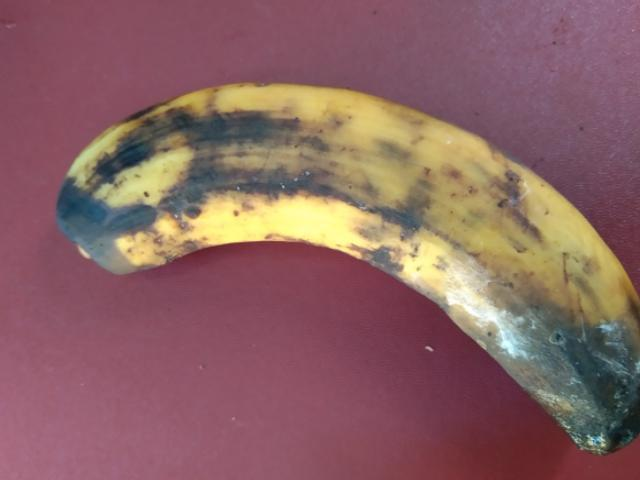rotten: (43, 50, 639, 451)
